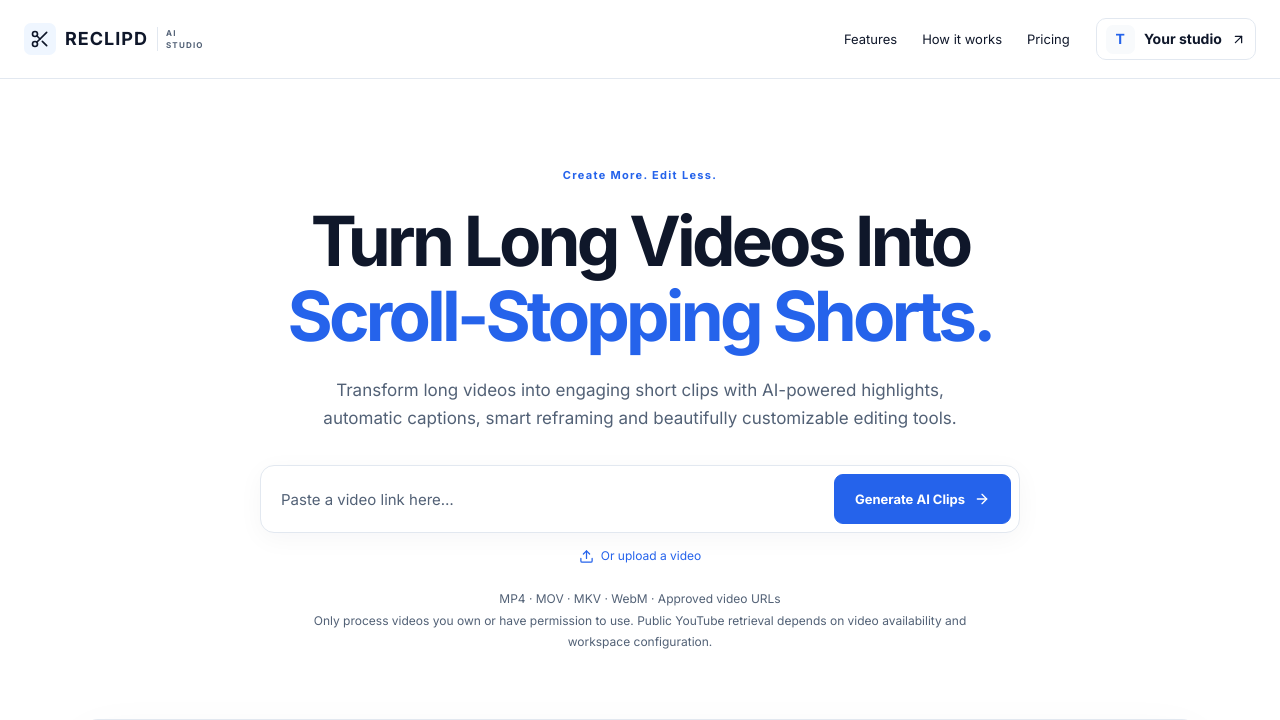
it: offers a signed-in homepage handoff instead of redirecting through login
Click the heading "T Your studio".
click(1176, 39)  # box [1096, 18, 1256, 60]
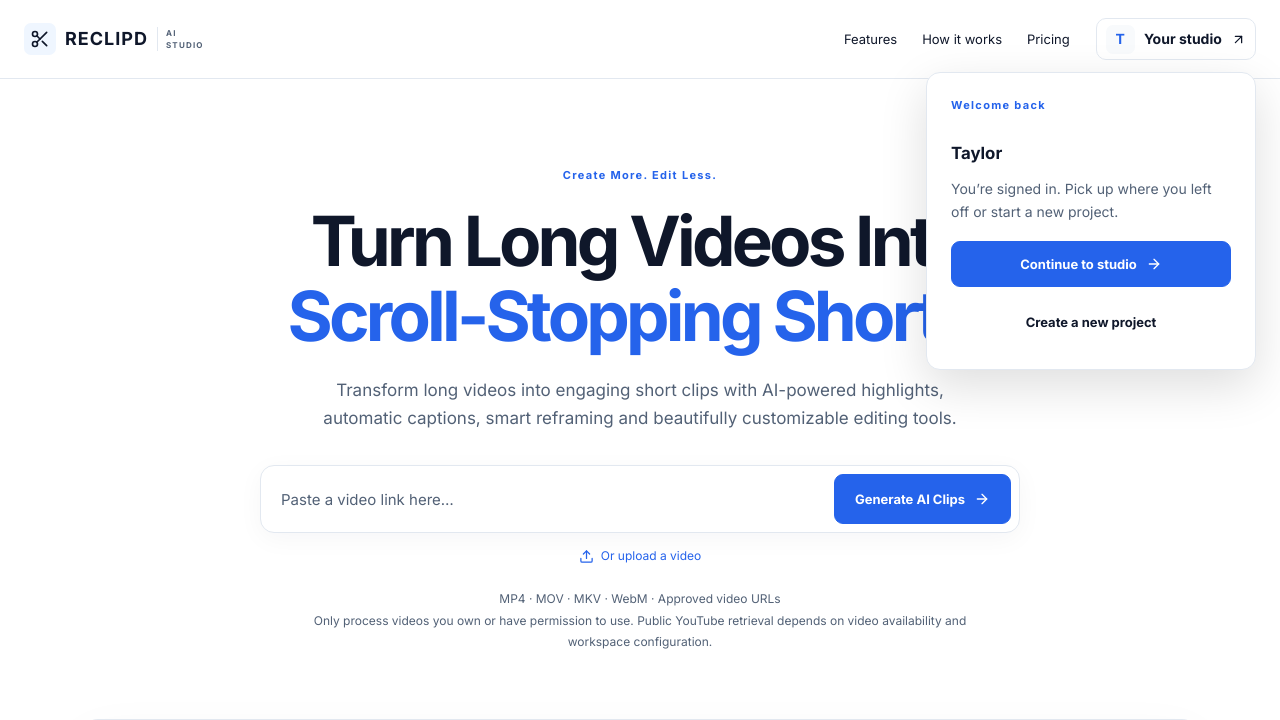
Check: the text "Welcome back" is shown, box [951, 98, 1046, 112]
Click the link "Continue to studio".
click(1091, 264)  # box [951, 241, 1231, 287]
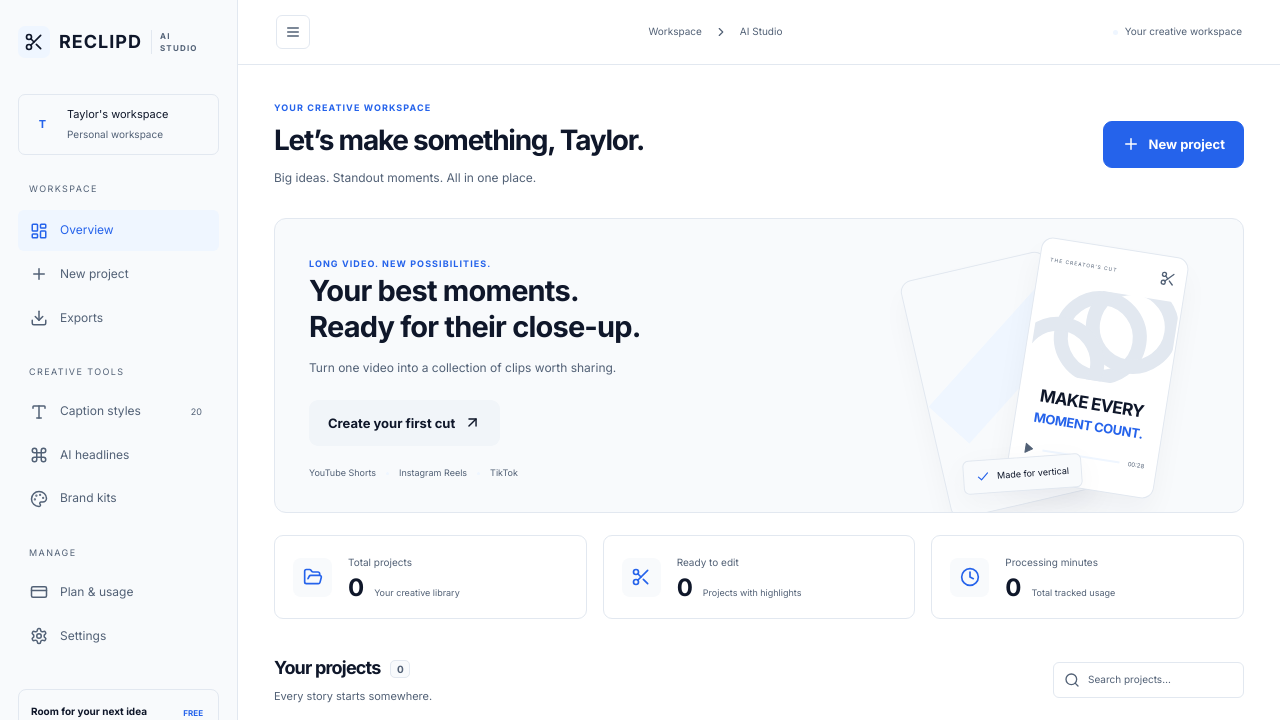
Check: the heading "Let’s make something, Taylor." is shown, box [274, 124, 644, 158]
